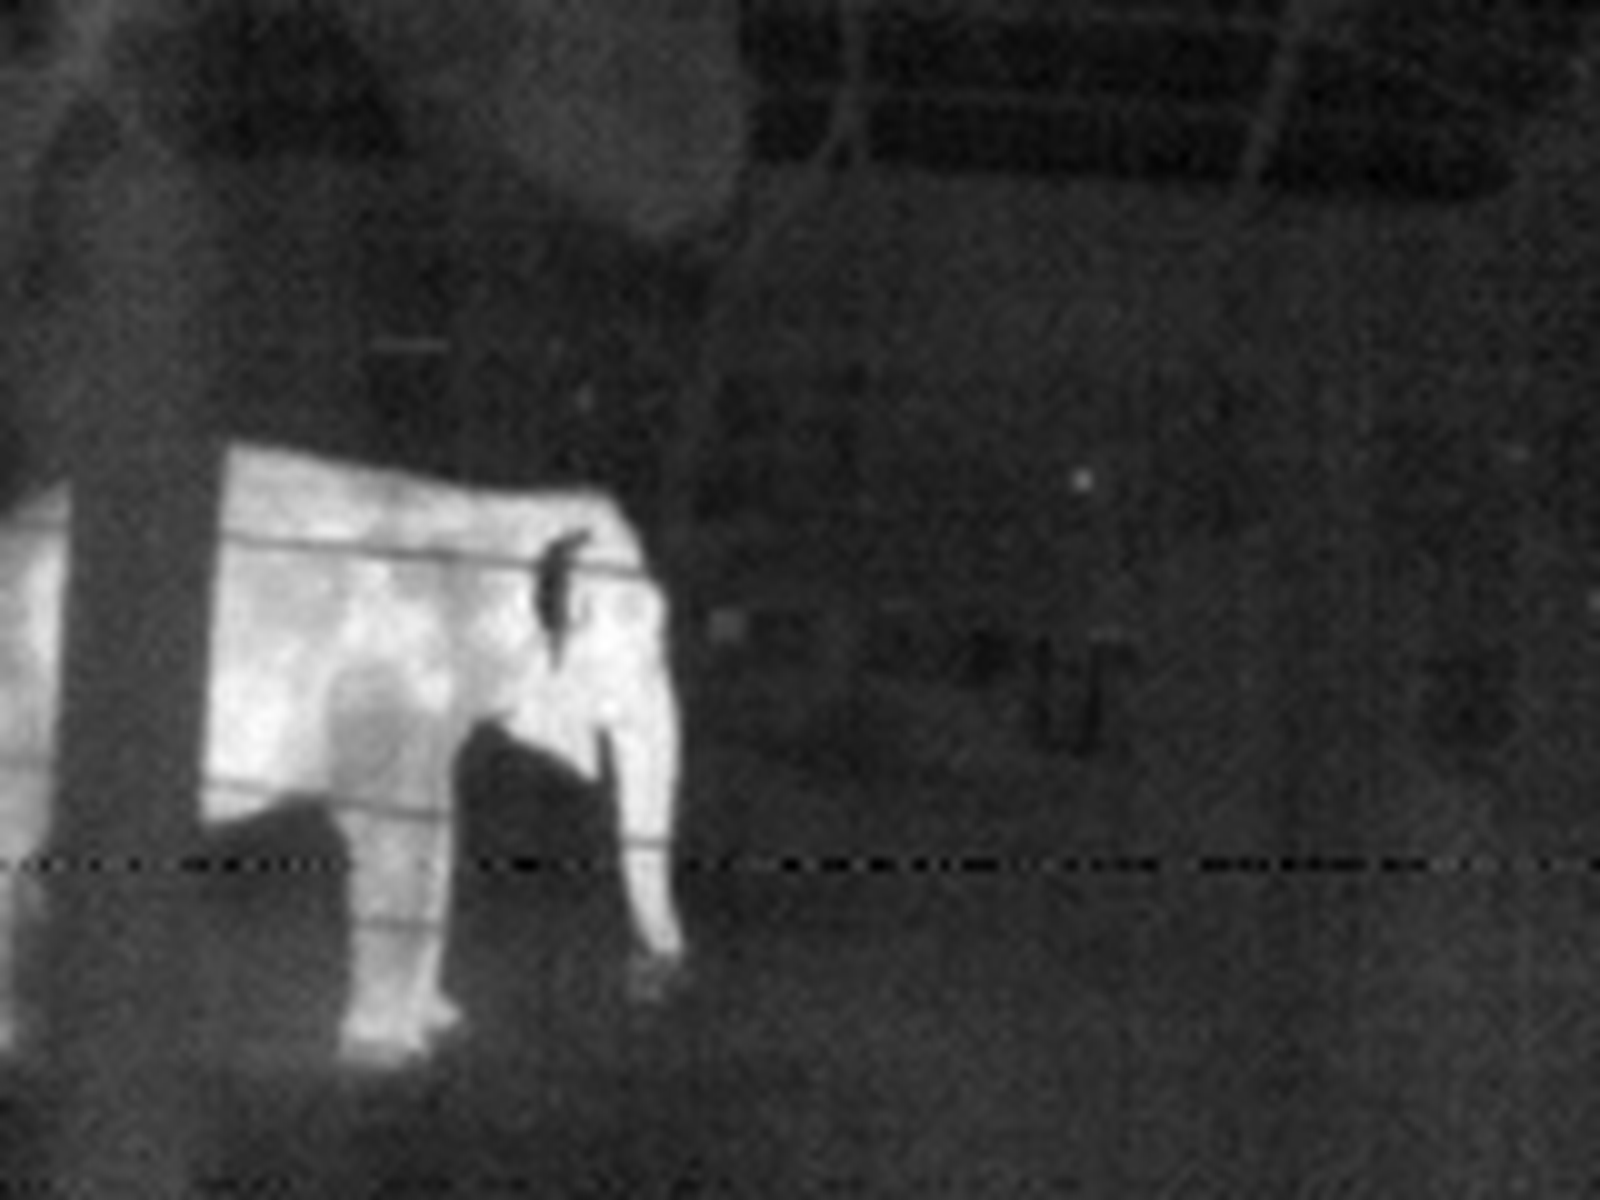elephant: (1, 353, 795, 1102)
